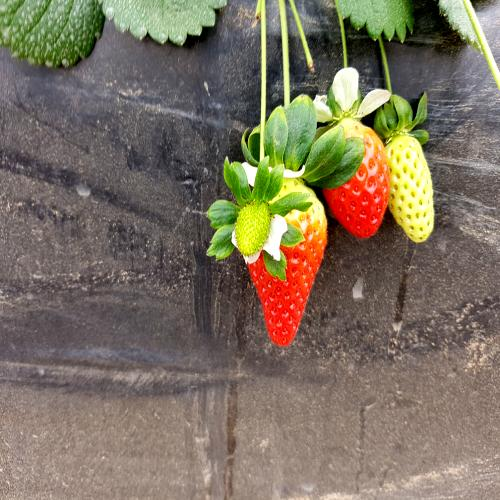ripe: (242, 161, 329, 355), (318, 114, 395, 265)
